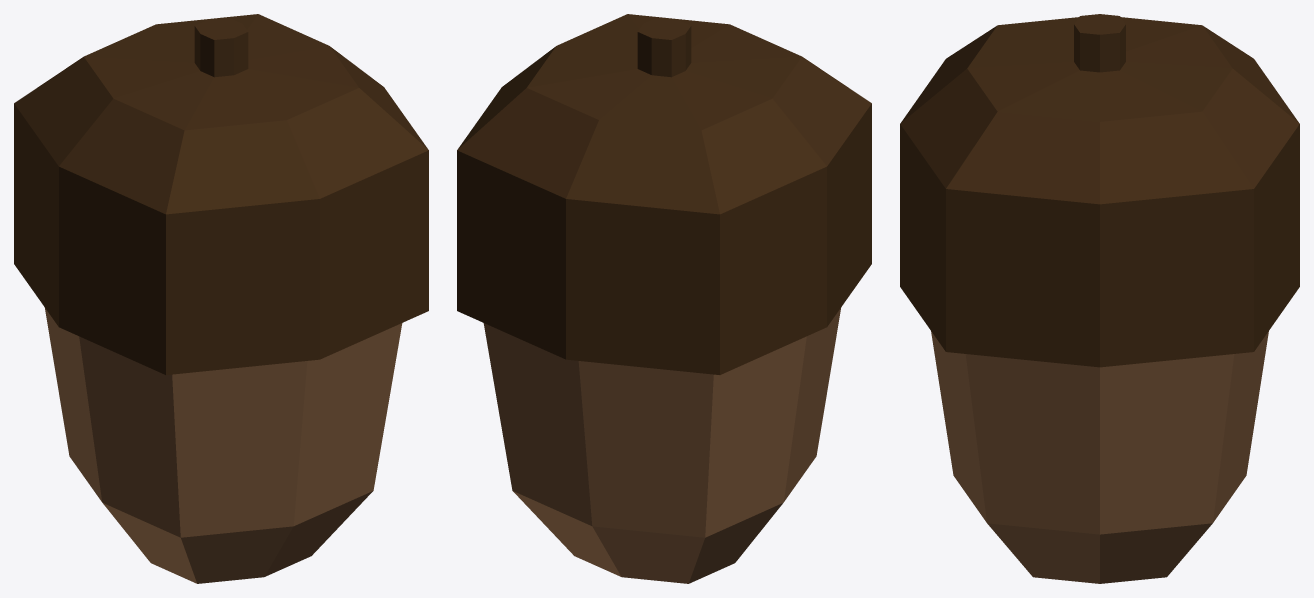
Rendered from Bellota.fbx.
3 views of the same model, side by side, from view 1: azimuth 30°, elevation 25°; view 2: azimuth 150°, elevation 25°; view 3: azimuth 270°, elevation 25° (orthographic).
Parts seen in each view (by area): view 1: Bellota:Mesh; view 2: Bellota:Mesh; view 3: Bellota:Mesh.
Part boxes in pixels (x1=…): Bellota:Mesh: x1=14, y1=14, x2=428, y2=583; Bellota:Mesh: x1=457, y1=14, x2=871, y2=583; Bellota:Mesh: x1=900, y1=14, x2=1299, y2=583.
Size of the model in its own units: 3.37 by 5.34 by 3.54.
